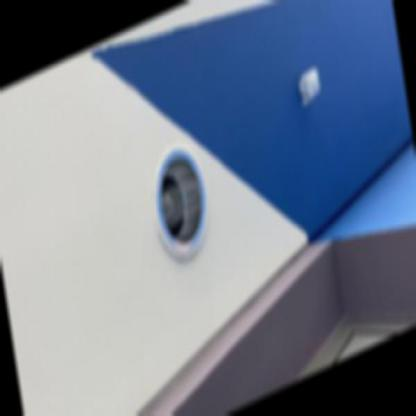light_off: (133, 110, 217, 284)
